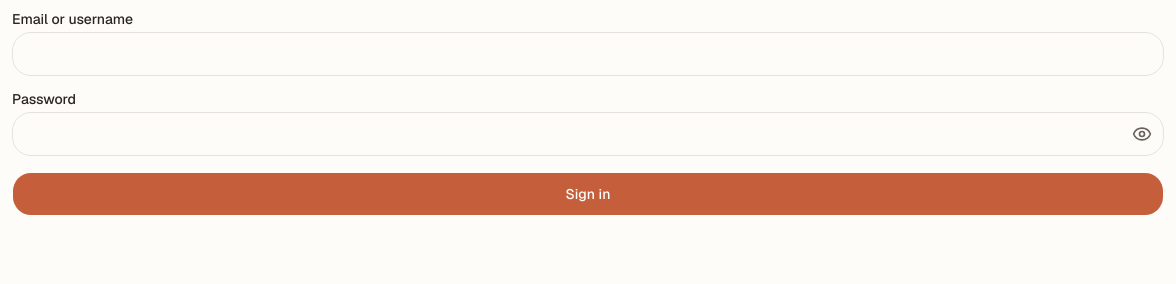
LoginForm › shows validation errors and does not submit empty values
Click the button "Sign in" at (588, 194), box [12, 172, 1164, 216]
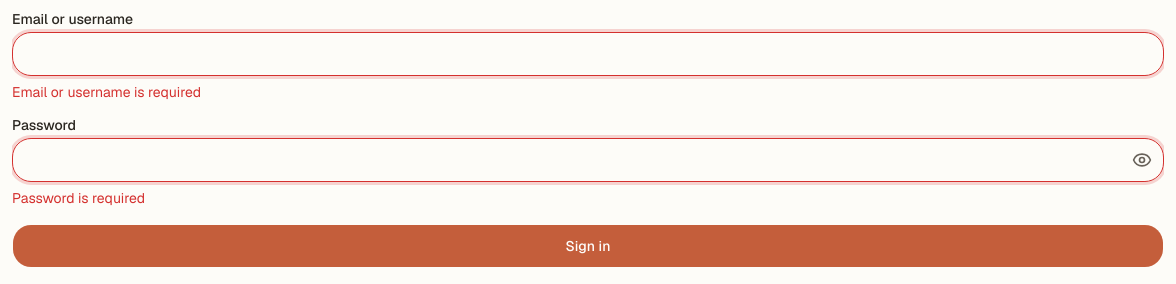
Check: the text "Email or username is required" is shown, box [12, 83, 201, 101]
Check: the text "Password is required" is shown, box [12, 189, 145, 207]
